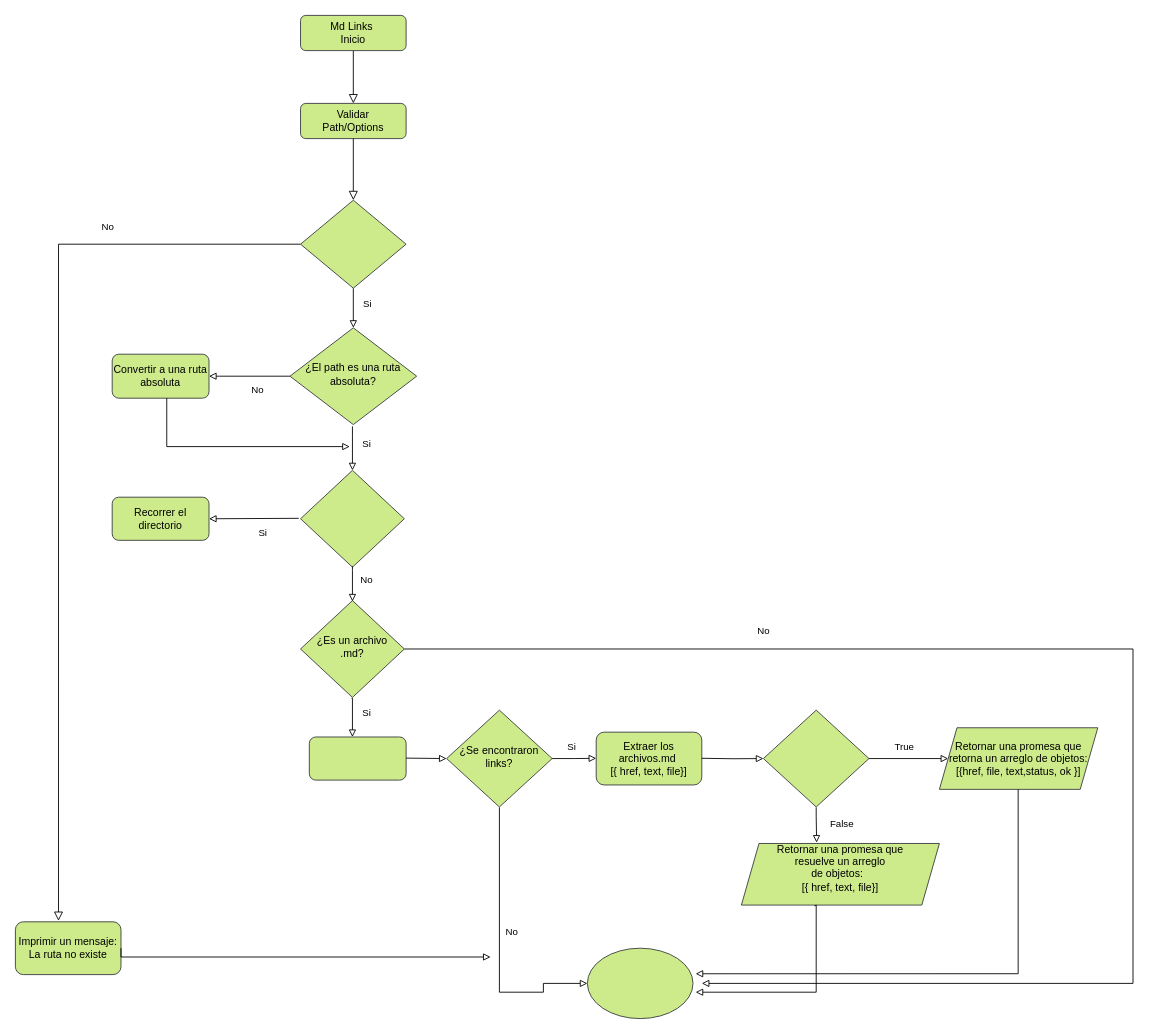
Some shapes in this 1155 by 1034 pixel diagram are drawn without their labels. The shapes that lost their labels are listed below. From the top down, each one's box as (x1, y1, x2, y2) in pixels, then its label:
(300, 199, 406, 288): ¿Existe el path?
(300, 469, 404, 567): ¿Es un directorio?
(308, 736, 406, 780): Leer archivo .md
(763, 709, 869, 807): ¿Validate?
(587, 947, 693, 1019): Fin del proceso
